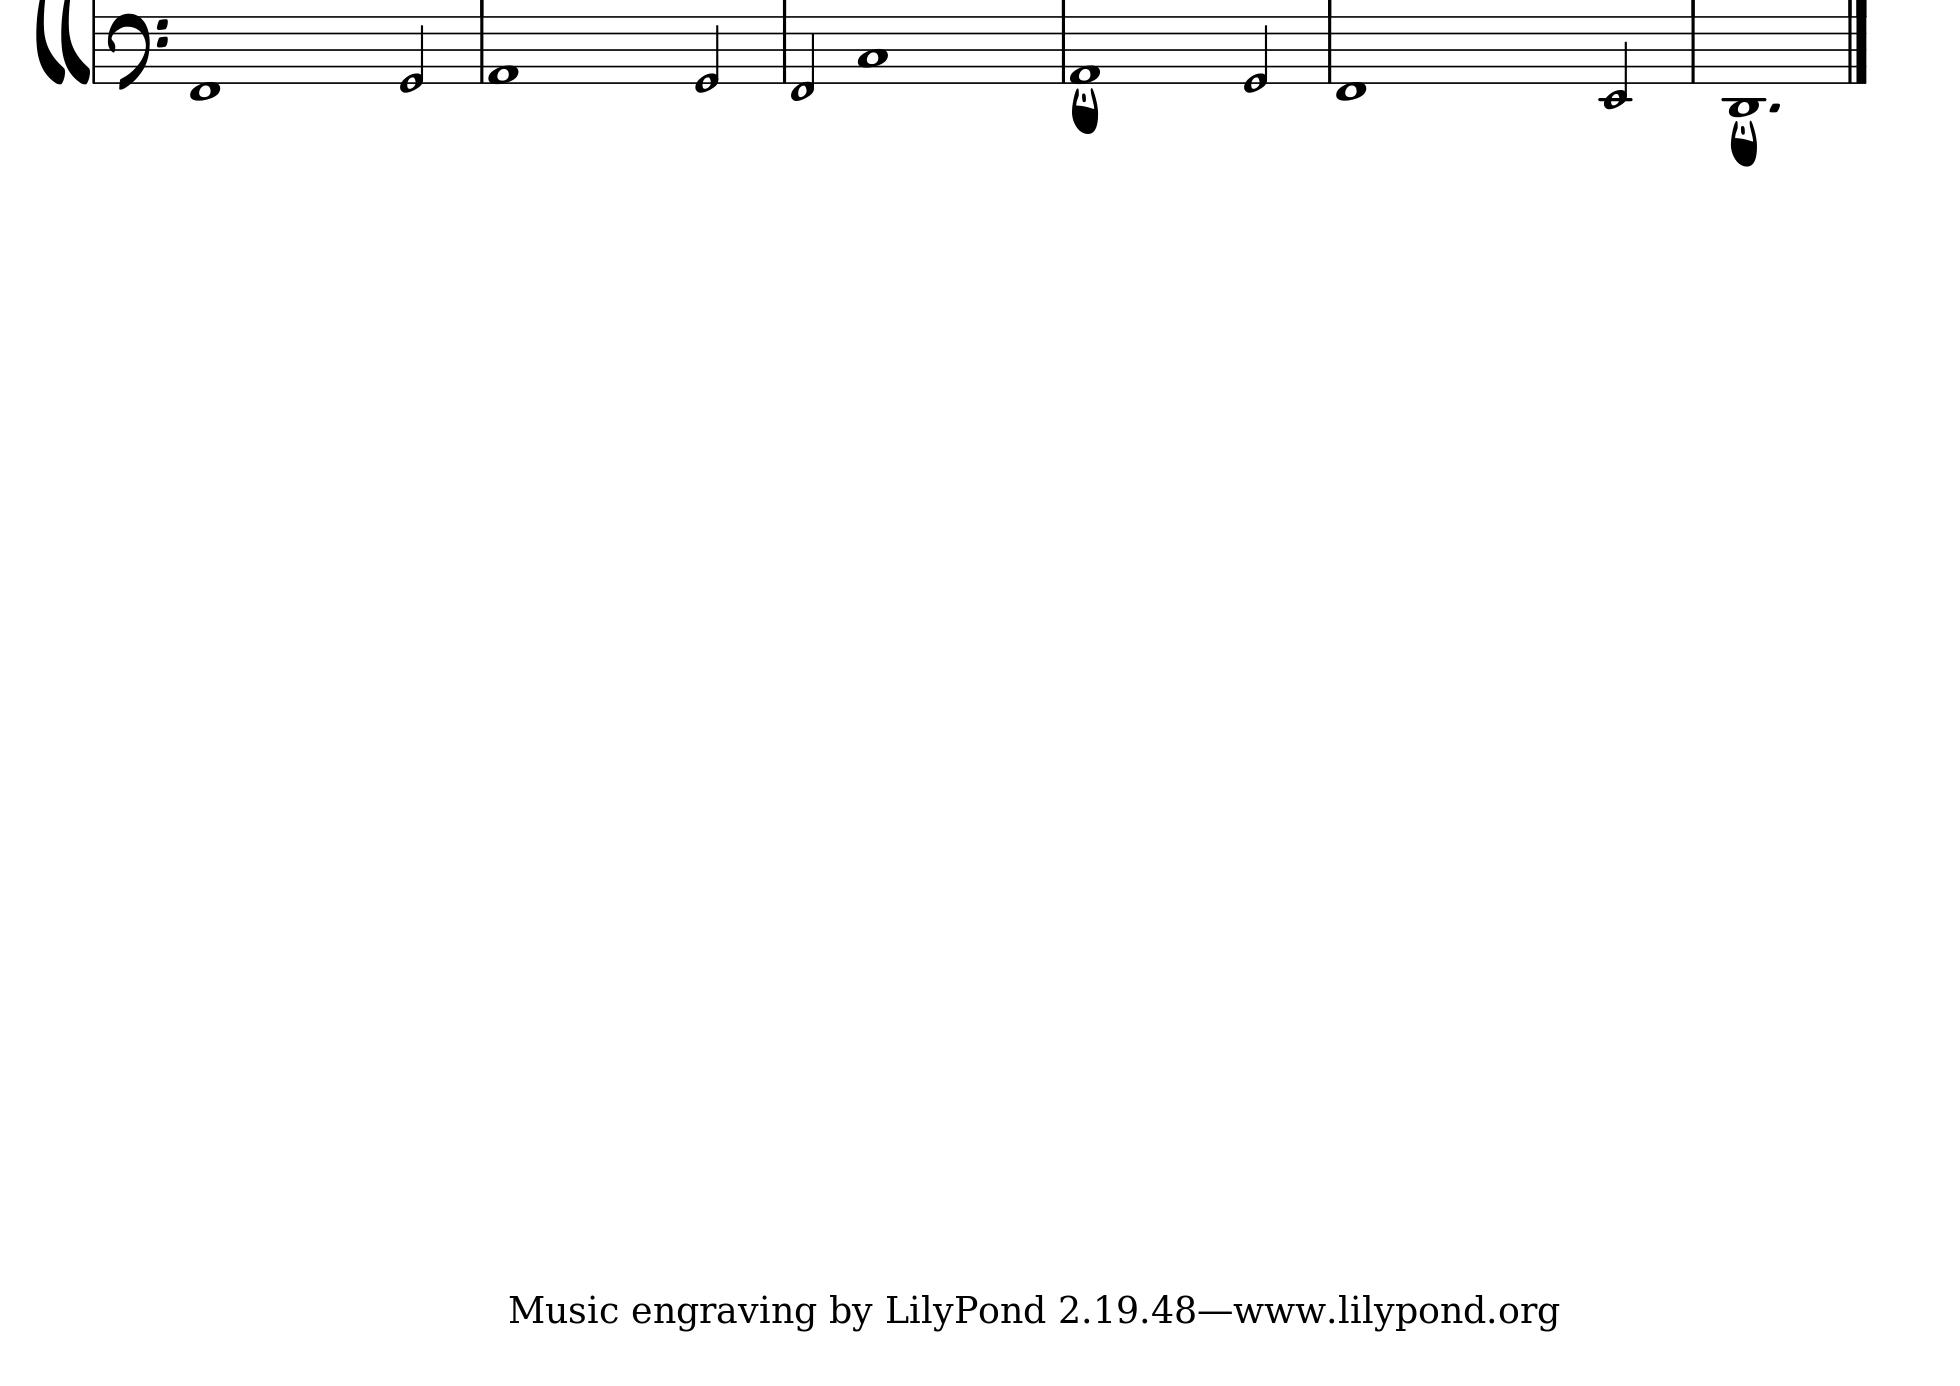1_-1: (1335, 13, 1368, 102), (189, 13, 220, 102)
1_-3: (1723, 16, 1761, 117)
1_1: (487, 15, 519, 85), (1071, 15, 1101, 85)
1_3: (858, 13, 886, 85)
2_-1: (790, 16, 816, 100)
2_-2: (1599, 16, 1633, 109)
2_0: (400, 13, 424, 94), (694, 13, 718, 94), (1245, 13, 1269, 93)
Fclef: (105, 13, 169, 90)
Final_barline: (1842, 7, 1870, 82)
Single_barline: (472, 15, 490, 82), (1054, 15, 1072, 82), (777, 13, 793, 82), (1321, 13, 1338, 82), (1686, 13, 1701, 82), (88, 18, 102, 81)
dot: (1767, 99, 1785, 115)
